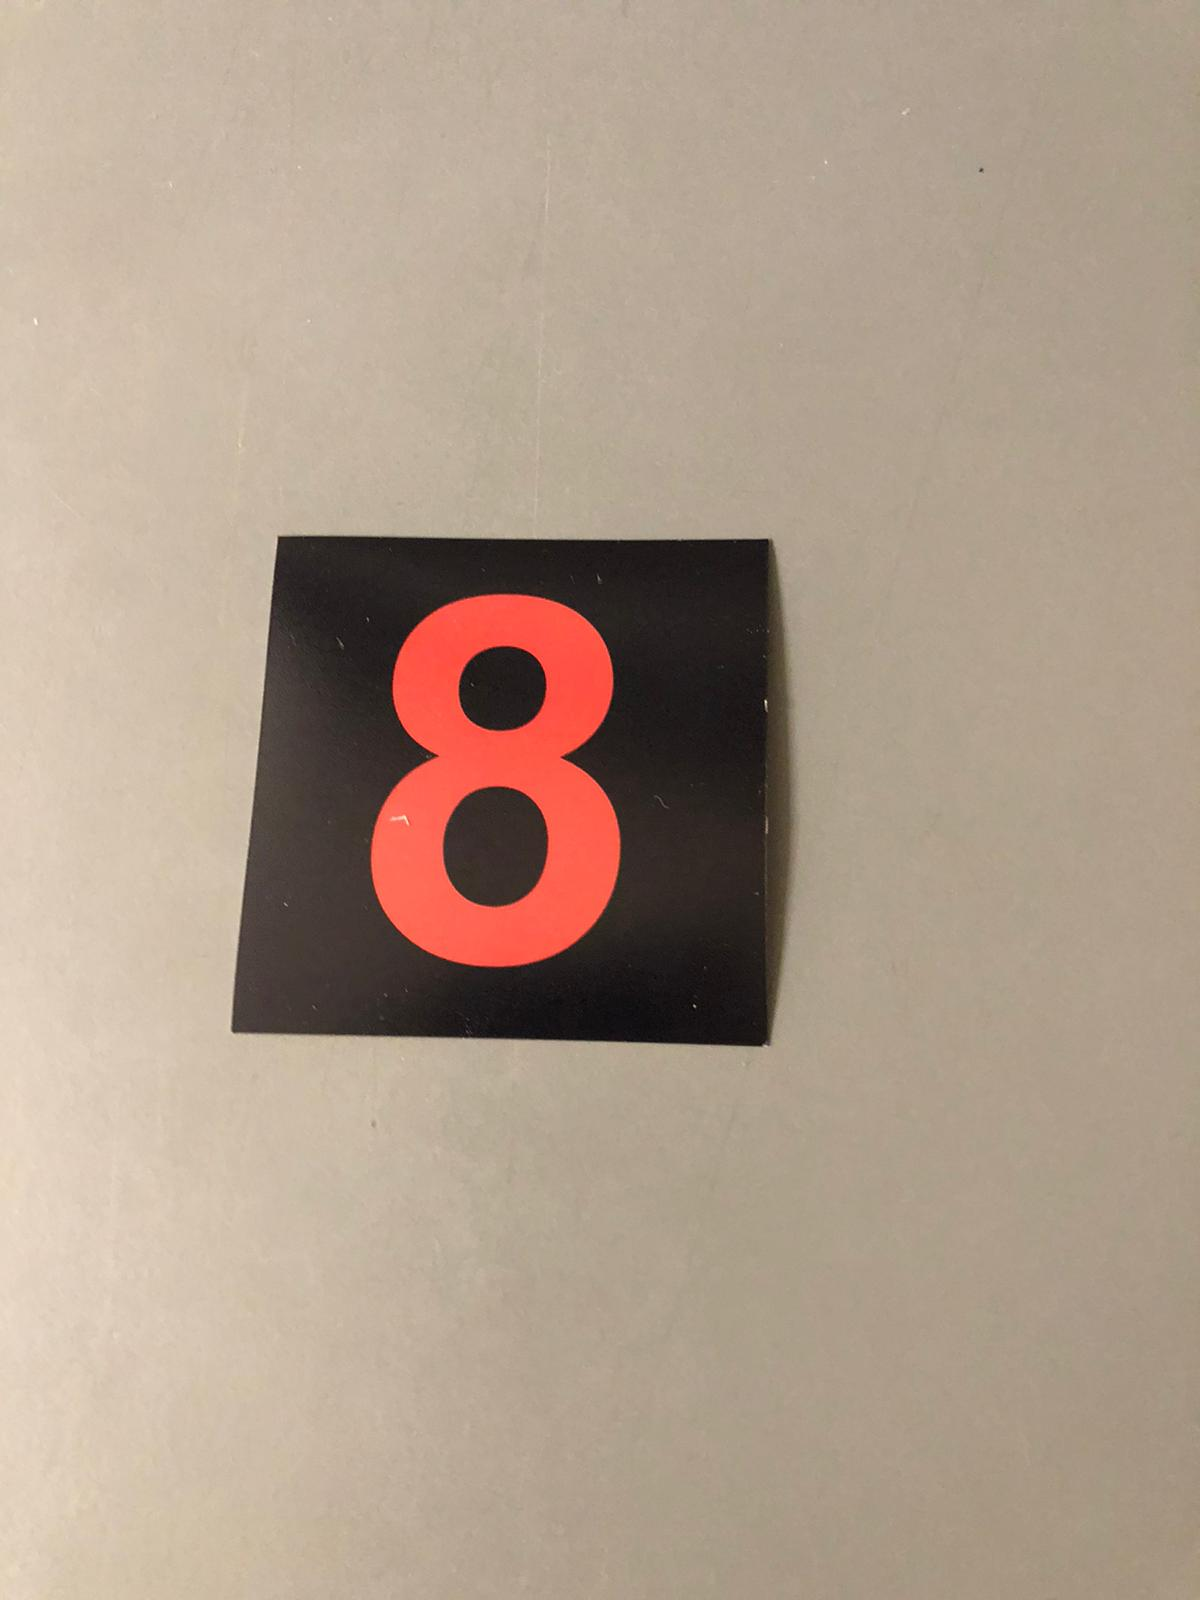Number 8: (284, 553, 737, 1036)
